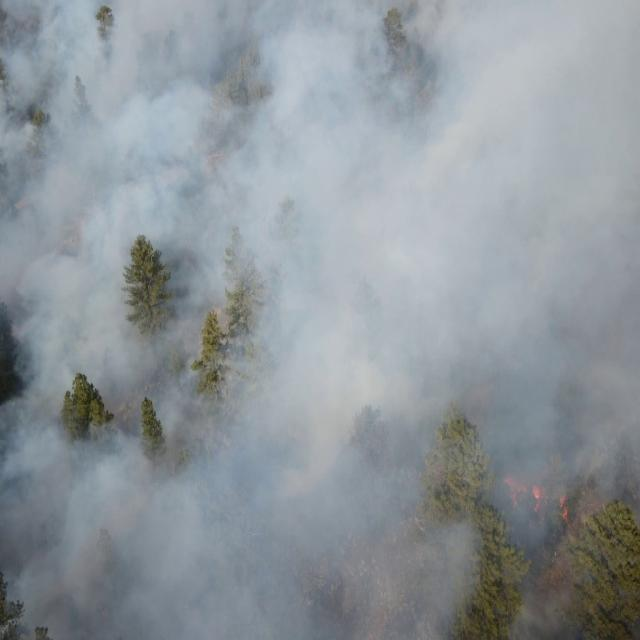fire: (504, 470, 544, 514), (553, 488, 579, 526)
smoke: (0, 0, 481, 640), (480, 0, 640, 532), (513, 534, 599, 640)
